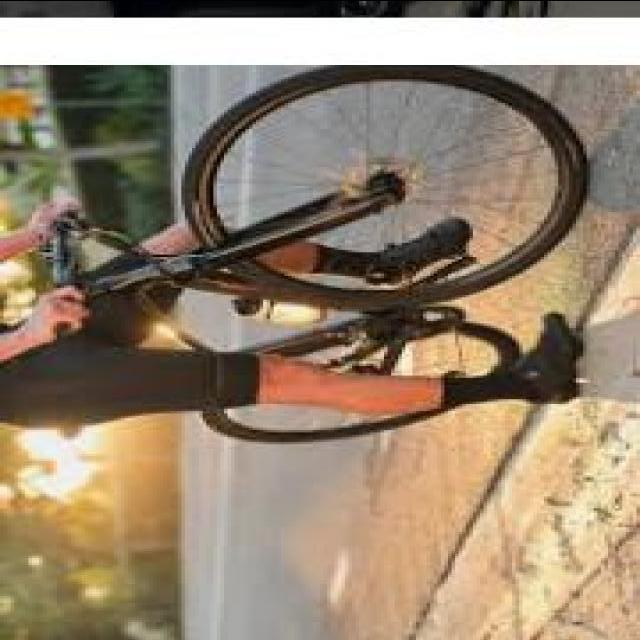bicycle: (1, 69, 595, 451)
